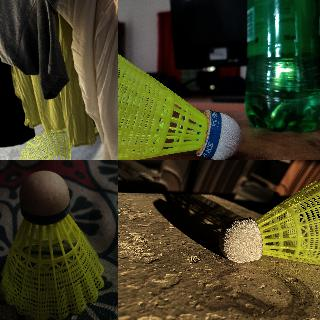shuttlecock: (0, 171, 105, 319), (118, 49, 242, 159), (218, 178, 319, 269), (18, 131, 75, 159)
